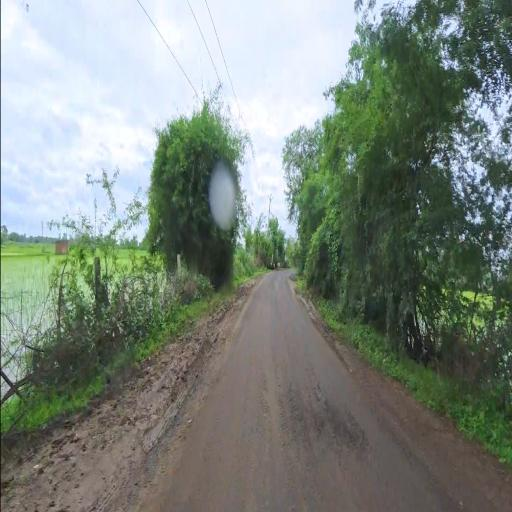edge_damage: (135, 394, 212, 497)
ravelling: (246, 327, 369, 491)
